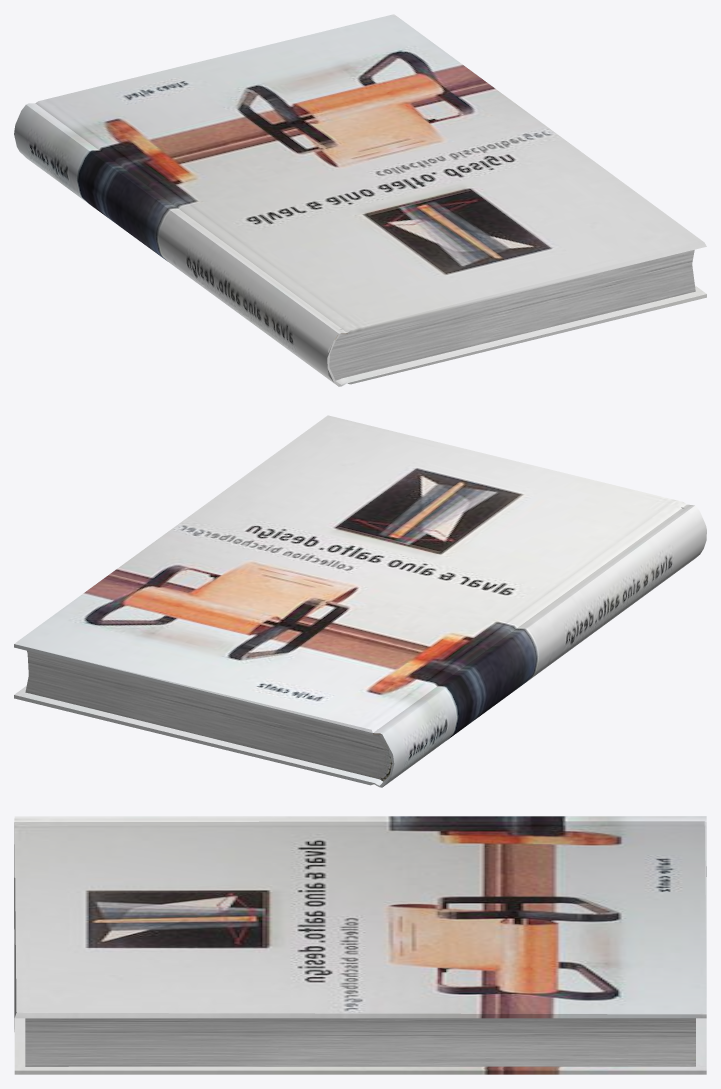
File: SM_Book_5.fbx
3 renders of one model, top to bottom at view 1: azimuth 30°, elevation 25°; view 2: azimuth 150°, elevation 25°; view 3: azimuth 270°, elevation 25°, orthographic. The views are drawn at different scales.
Visible parts, largest first — view 1: SM_Book_5; view 2: SM_Book_5; view 3: SM_Book_5.
Part boxes in pixels (bbox=[...]): SM_Book_5: bbox=[14, 14, 706, 386]; SM_Book_5: bbox=[14, 415, 706, 787]; SM_Book_5: bbox=[14, 816, 706, 1074].
Bounding box in the file's own units: 0.2307 × 0.0319 × 0.3293.
Materials: 2 (2 with a texture image).
